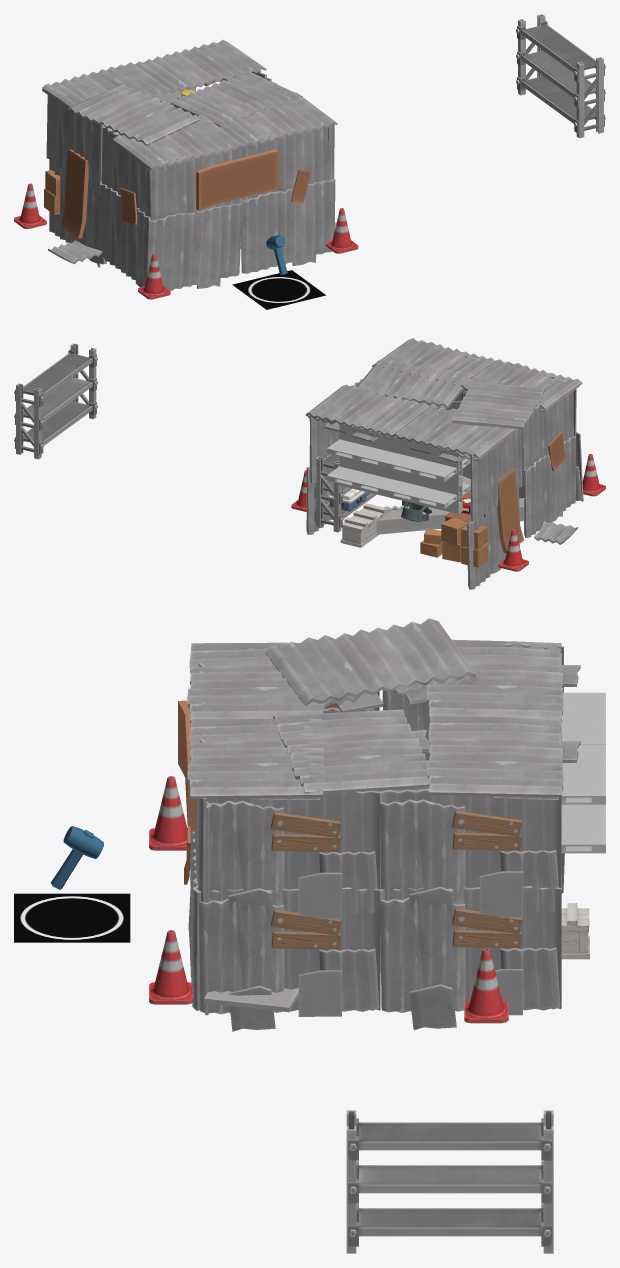
Rendered from Merchant_Normal.fbx.
3 views of the same model, one above another, from view 1: azimuth 30°, elevation 25°; view 2: azimuth 150°, elevation 25°; view 3: azimuth 270°, elevation 25° (orthographic). The views are drawn at different scales.
Visible parts, largest first — view 1: Mat_MetalBoard_01_1, Mat_Shelf_01_03, Mat_PaperBox_02, Mat_Roadblocks01, BuildingInteractRing, Mat_PaperBox_01_01, EdgeLight_build; view 2: Mat_MetalBoard_01_1, Mat_PlasticPallet_01, Mat_Shelf_01_03, Mat_PaperBox_01_01, Mat_PaperBox_02, Mat_Roadblocks01, Mat_CementMold_1, Mat_WoodBox_01_2, Mat_MetalBoard_01_3, ColorA, Mat_MetalBoard_01_4, Mat_Clothes_LV4; view 3: Mat_MetalBoard_01_1, Mat_MetalBoard_01_3, Mat_Shelf_01_03, Mat_MetalBoard_01_4, Mat_WoodBoards_01_2, Mat_PlasticPallet_01, Mat_Roadblocks01, BuildingInteractRing, Mat_WoodBox_01_2, Mat_PaperBox_02, Mat_CementMold_1, EdgeLight_build.
Part boxes in pixels (bbox=[...]): Mat_MetalBoard_01_1: bbox=[42, 39, 337, 290]; Mat_Shelf_01_03: bbox=[516, 14, 605, 138]; Mat_PaperBox_02: bbox=[60, 149, 311, 238]; Mat_Roadblocks01: bbox=[14, 183, 358, 299]; BuildingInteractRing: bbox=[232, 270, 325, 309]; Mat_PaperBox_01_01: bbox=[44, 170, 60, 214]; EdgeLight_build: bbox=[266, 235, 287, 275]; Mat_MetalBoard_01_1: bbox=[305, 338, 583, 589]; Mat_PlasticPallet_01: bbox=[327, 424, 470, 514]; Mat_Shelf_01_03: bbox=[14, 343, 376, 532]; Mat_PaperBox_01_01: bbox=[420, 517, 488, 567]; Mat_PaperBox_02: bbox=[497, 431, 566, 553]; Mat_Roadblocks01: bbox=[291, 454, 605, 571]; Mat_CementMold_1: bbox=[376, 476, 524, 534]; Mat_WoodBox_01_2: bbox=[340, 503, 389, 547]; Mat_MetalBoard_01_3: bbox=[352, 386, 579, 461]; ColorA: bbox=[329, 488, 470, 514]; Mat_MetalBoard_01_4: bbox=[306, 389, 581, 587]; Mat_Clothes_LV4: bbox=[401, 501, 431, 522]; Mat_MetalBoard_01_1: bbox=[187, 618, 580, 1031]; Mat_MetalBoard_01_3: bbox=[199, 653, 561, 1014]; Mat_Shelf_01_03: bbox=[346, 867, 553, 1253]; Mat_MetalBoard_01_4: bbox=[255, 695, 562, 1011]; Mat_WoodBoards_01_2: bbox=[271, 702, 521, 949]; Mat_PlasticPallet_01: bbox=[561, 692, 605, 853]; Mat_Roadblocks01: bbox=[149, 776, 508, 1023]; BuildingInteractRing: bbox=[14, 893, 130, 942]; Mat_WoodBox_01_2: bbox=[561, 903, 589, 959]; Mat_PaperBox_02: bbox=[178, 700, 196, 884]; Mat_CementMold_1: bbox=[204, 988, 298, 1012]; EdgeLight_build: bbox=[51, 826, 103, 889].
Bounding box in the file's own units: 13.08 × 3.75 × 7.35.
20 materials, 20 textured.
